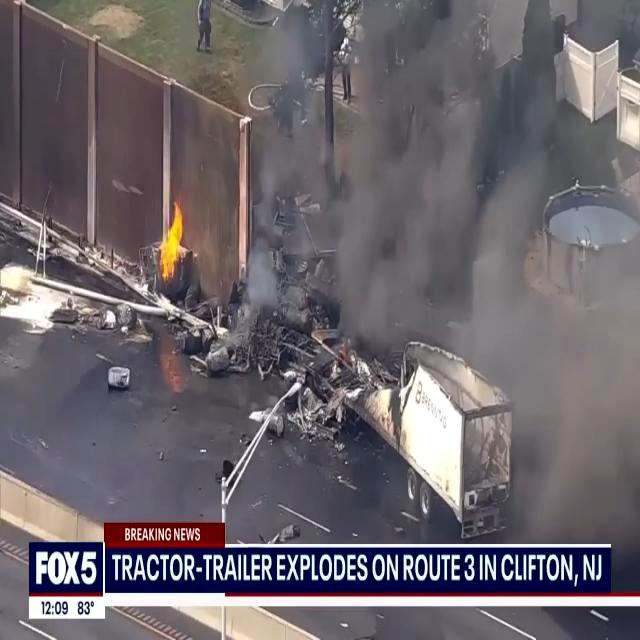fire: (149, 194, 189, 286)
